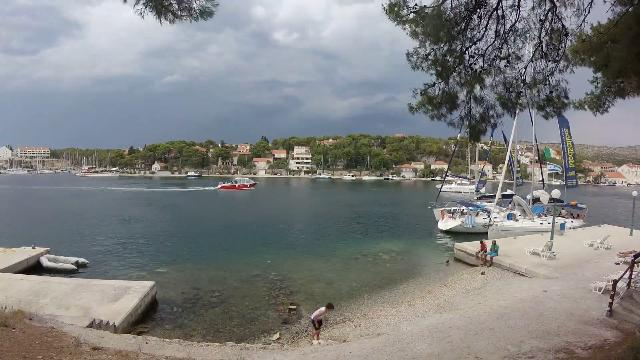speedboat: (214, 174, 260, 192)
